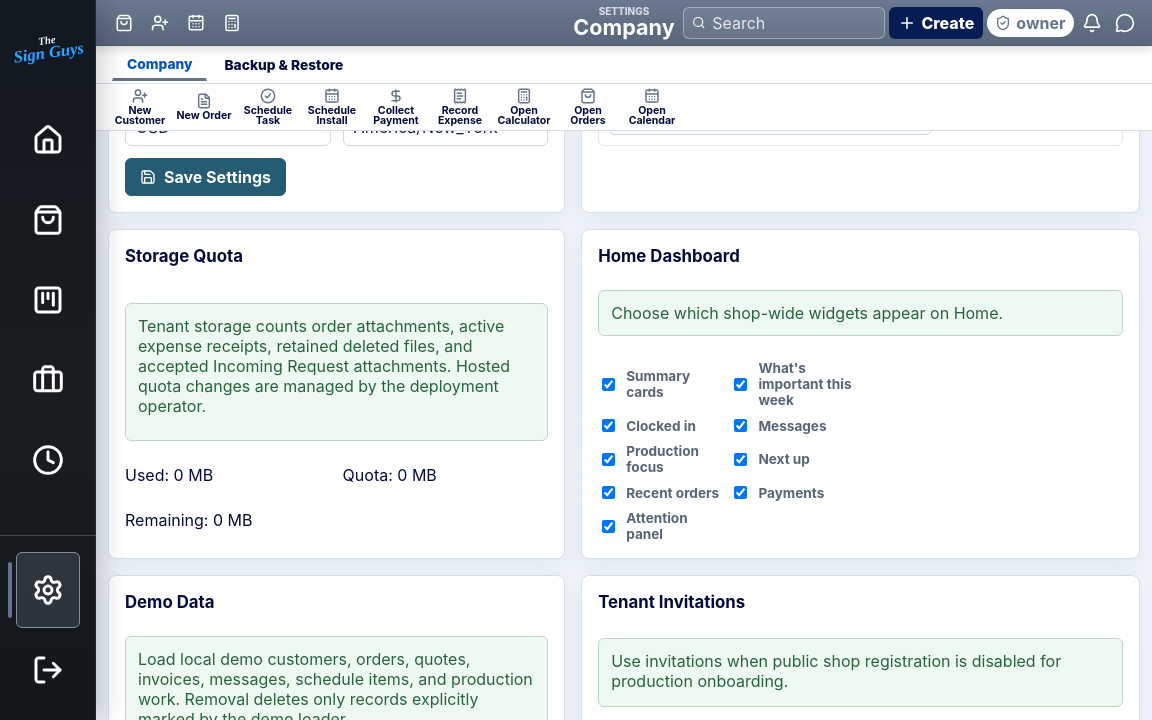
Scenario: Part 2 UI › shows enabled company settings controls and Save Settings for owner
(page scrolled)
Expected: the button "Save Settings" is enabled, [125,158,286,196]
Expected: the heading "Storage Quota" is shown, [125,246,243,266]
Click the checkbox labelled "Messages" at (741,426), box [734,419,747,432]
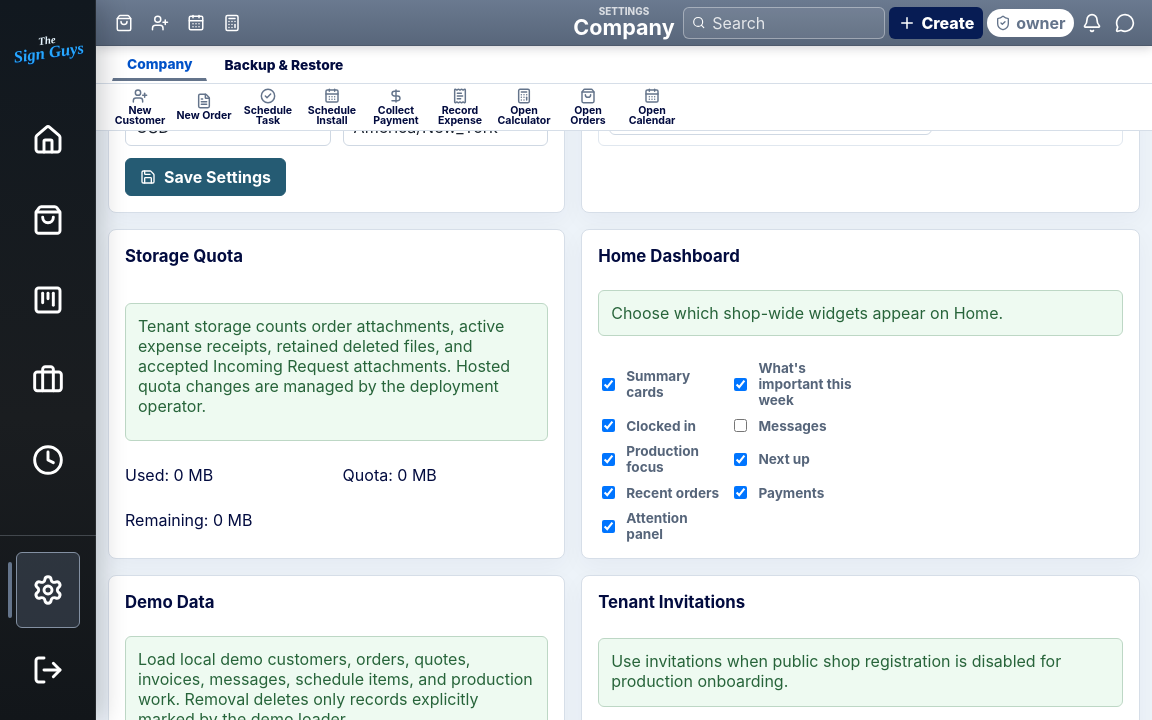
Click the button "Save Settings" at (206,177), box [125,158,286,196]
(page scrolled)
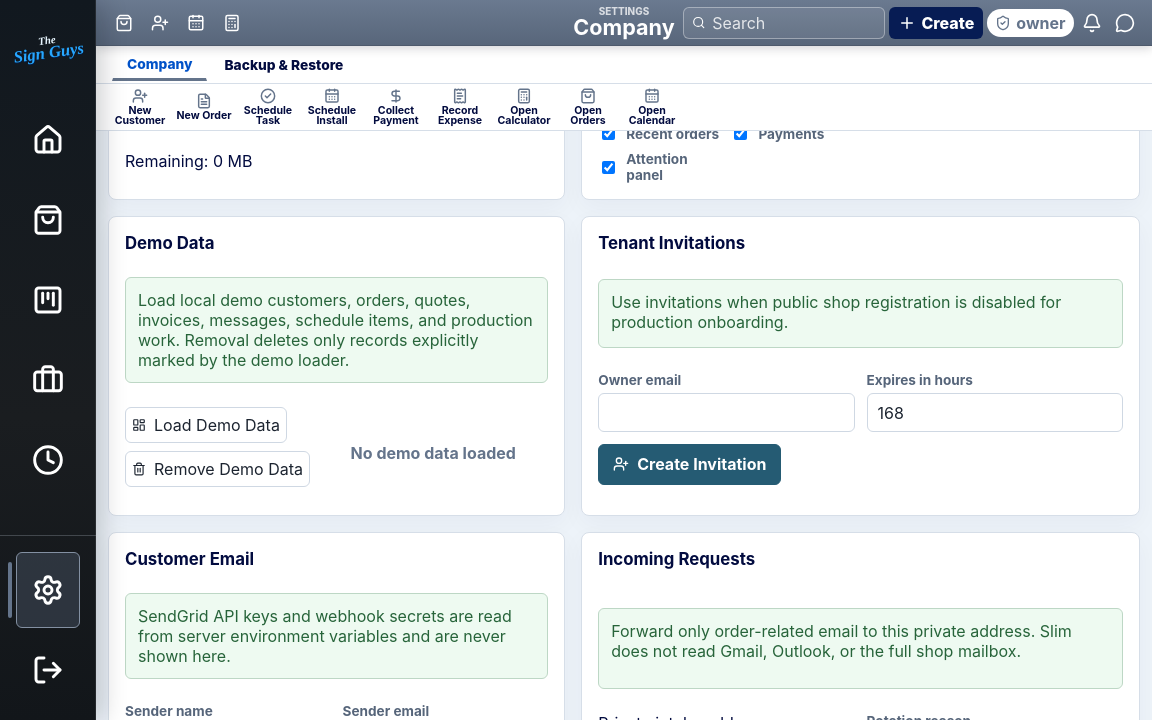
Click the button "Load Demo Data" at (206,425), box [125,407,287,443]
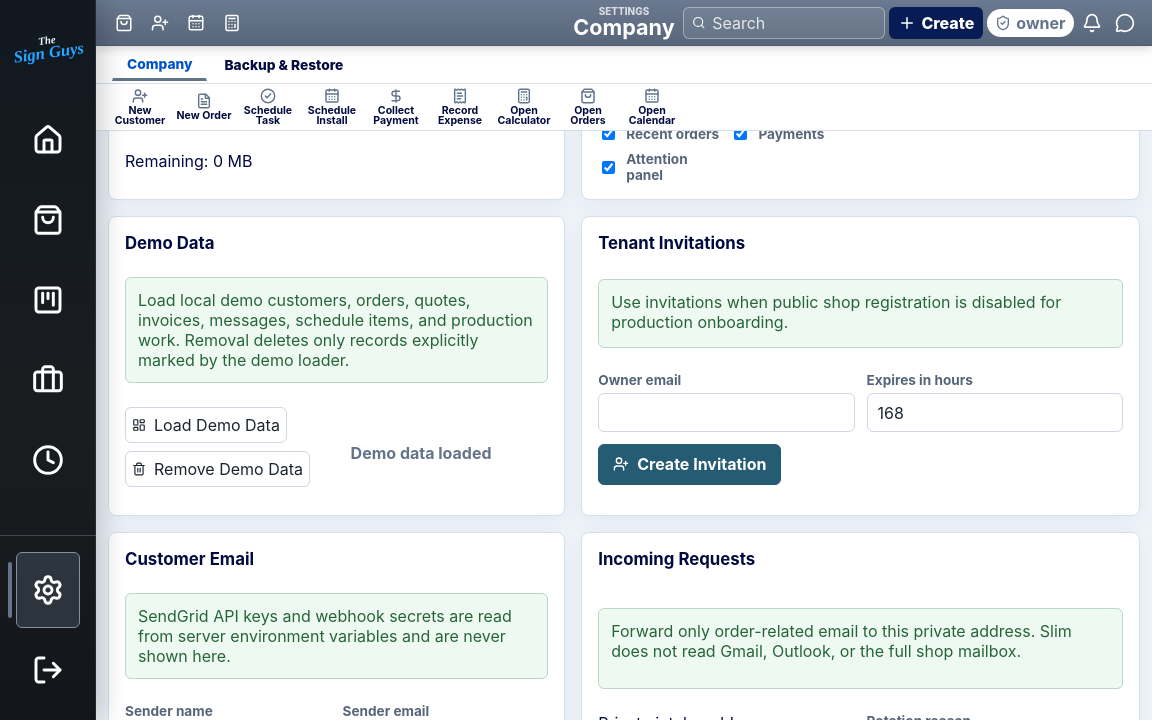
Now the text "Demo data loaded" is shown, box [343,407,548,499]
Click the button "Remove Demo Data" at (218,469), box [125,451,310,487]
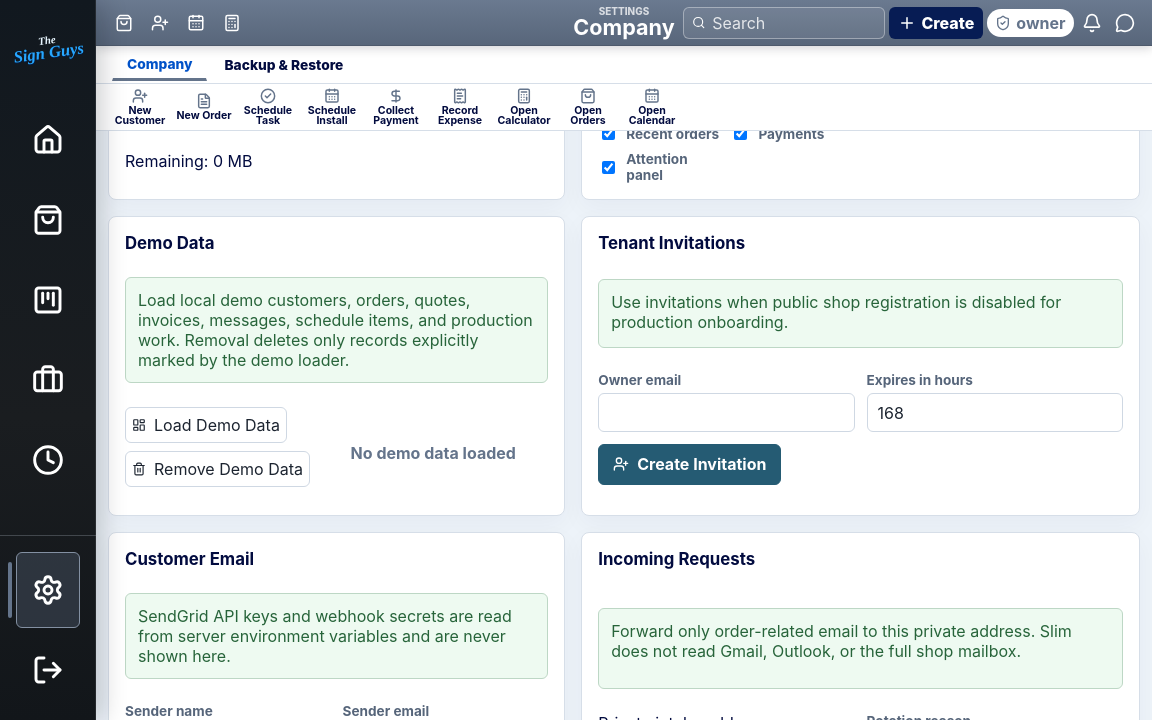
Now the text "No demo data loaded" is shown, box [343,407,548,499]
